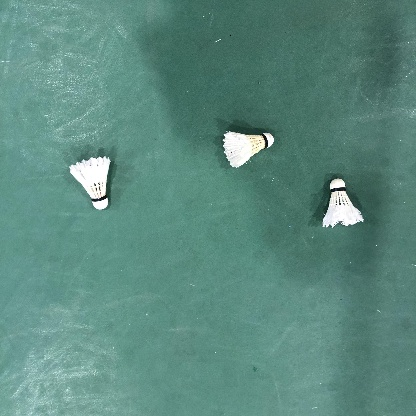ball_single: (69, 156, 110, 210), (323, 178, 364, 228), (222, 131, 274, 168)
